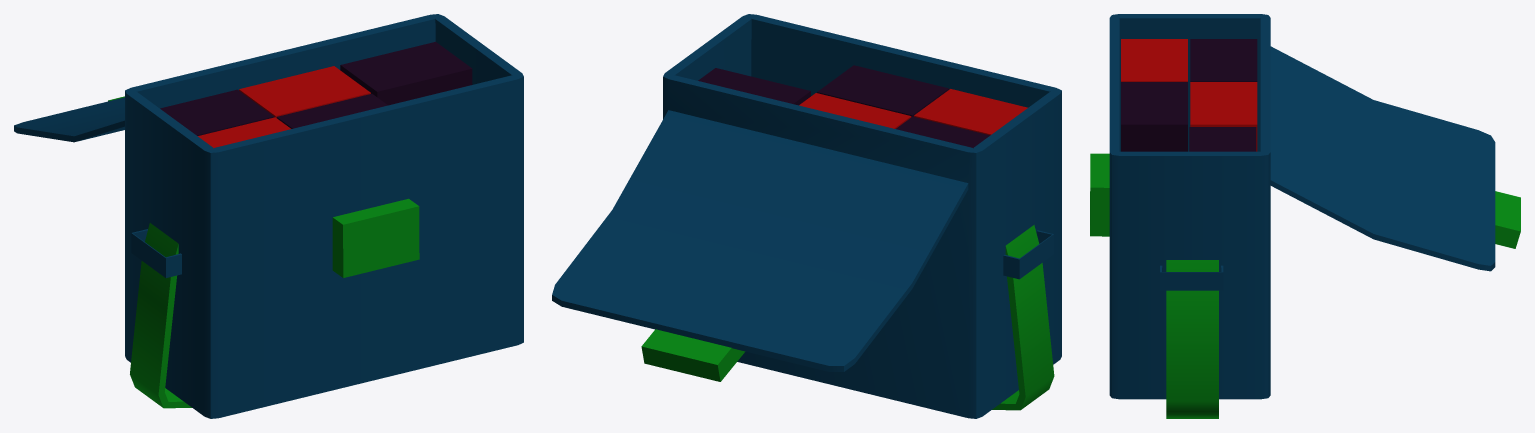
The picture shows the model from 3 angles, left to right: view 1: azimuth 30°, elevation 25°; view 2: azimuth 150°, elevation 25°; view 3: azimuth 270°, elevation 25°; orthographic projection. The views are drawn at different scales.
Parts seen in each view (by area): view 1: C4; view 2: C4; view 3: C4.
Part boxes in pixels (x1,y1,x2,y2): C4: (14, 14, 523, 418); C4: (552, 14, 1061, 418); C4: (1090, 14, 1520, 418).
Size of the model in its own units: 28.65 by 22.02 by 32.09.
